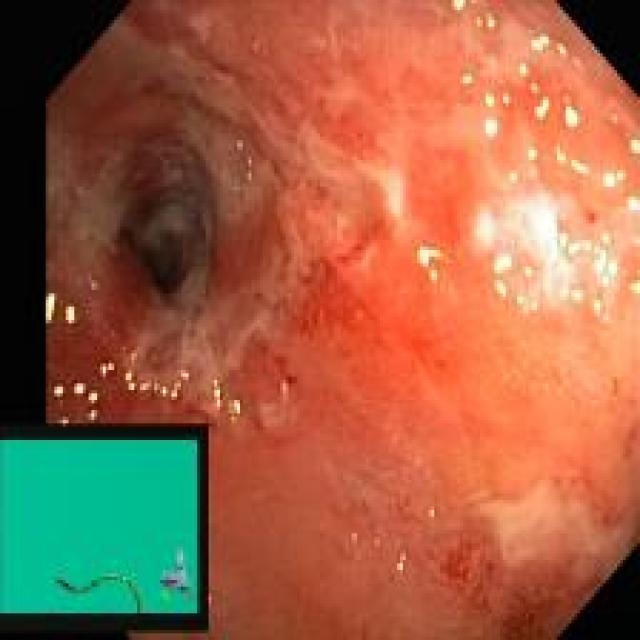ulcerative-colitis-grade-3: (48, 0, 640, 639)
